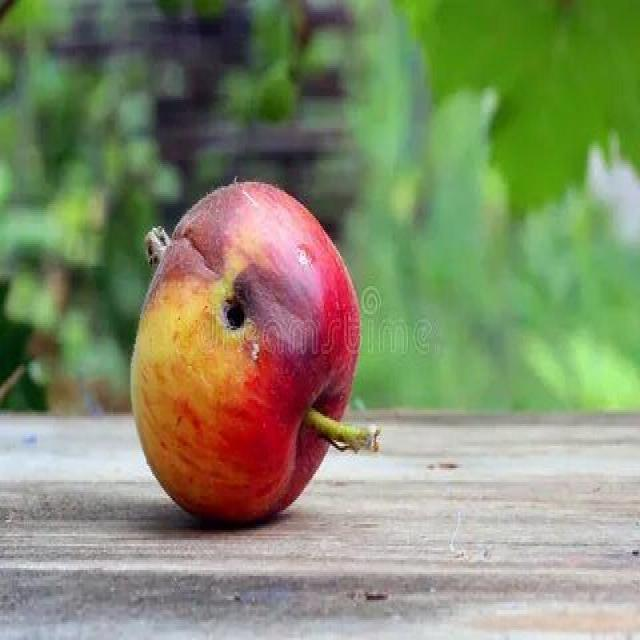Rotten: (137, 183, 368, 532)
